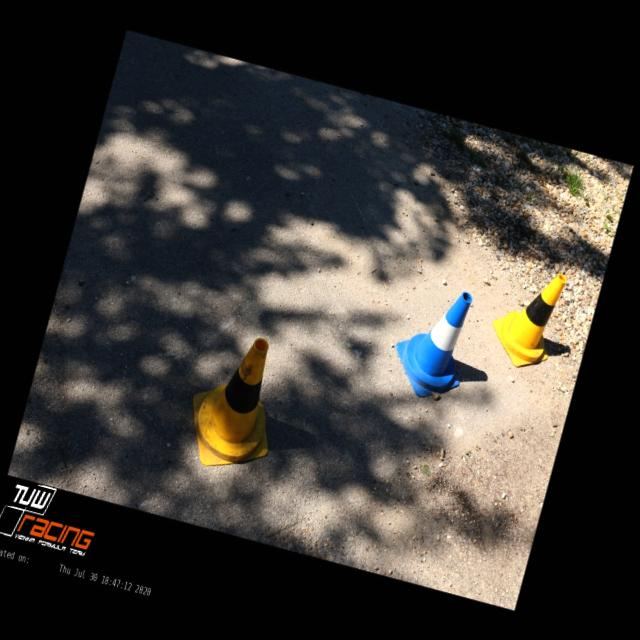blue_cone: (383, 278, 482, 405)
yellow_cone: (177, 324, 296, 480), (484, 260, 570, 374)
